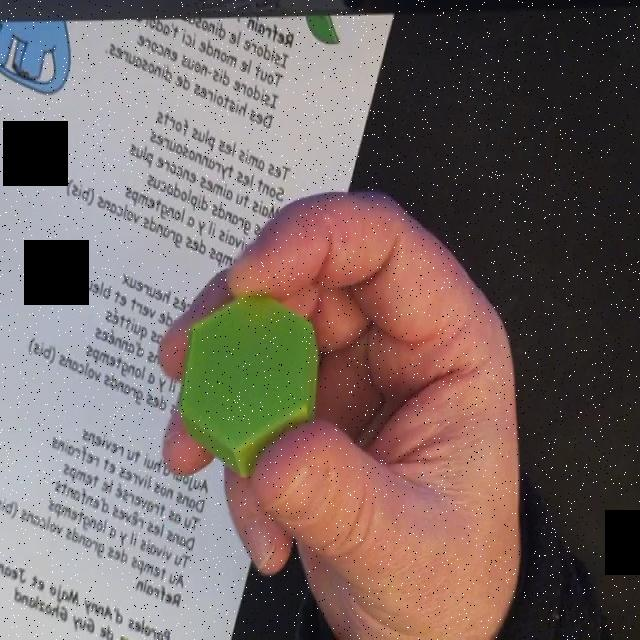hexagon: (178, 292, 320, 478)
